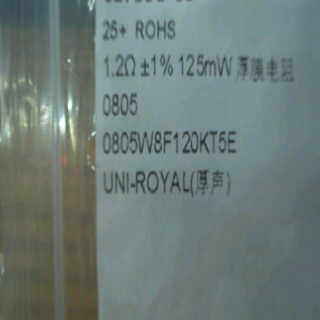1.2R: (98, 53, 141, 123)
